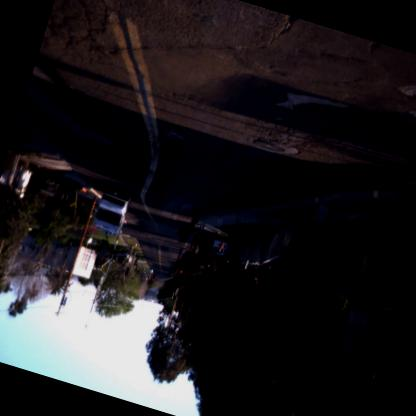trafficlight: (150, 272, 157, 284)
